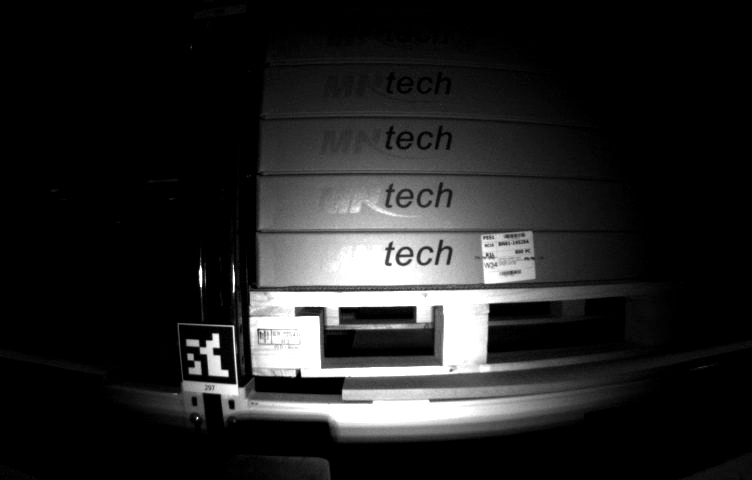True Barcode: (481, 230, 536, 283)
